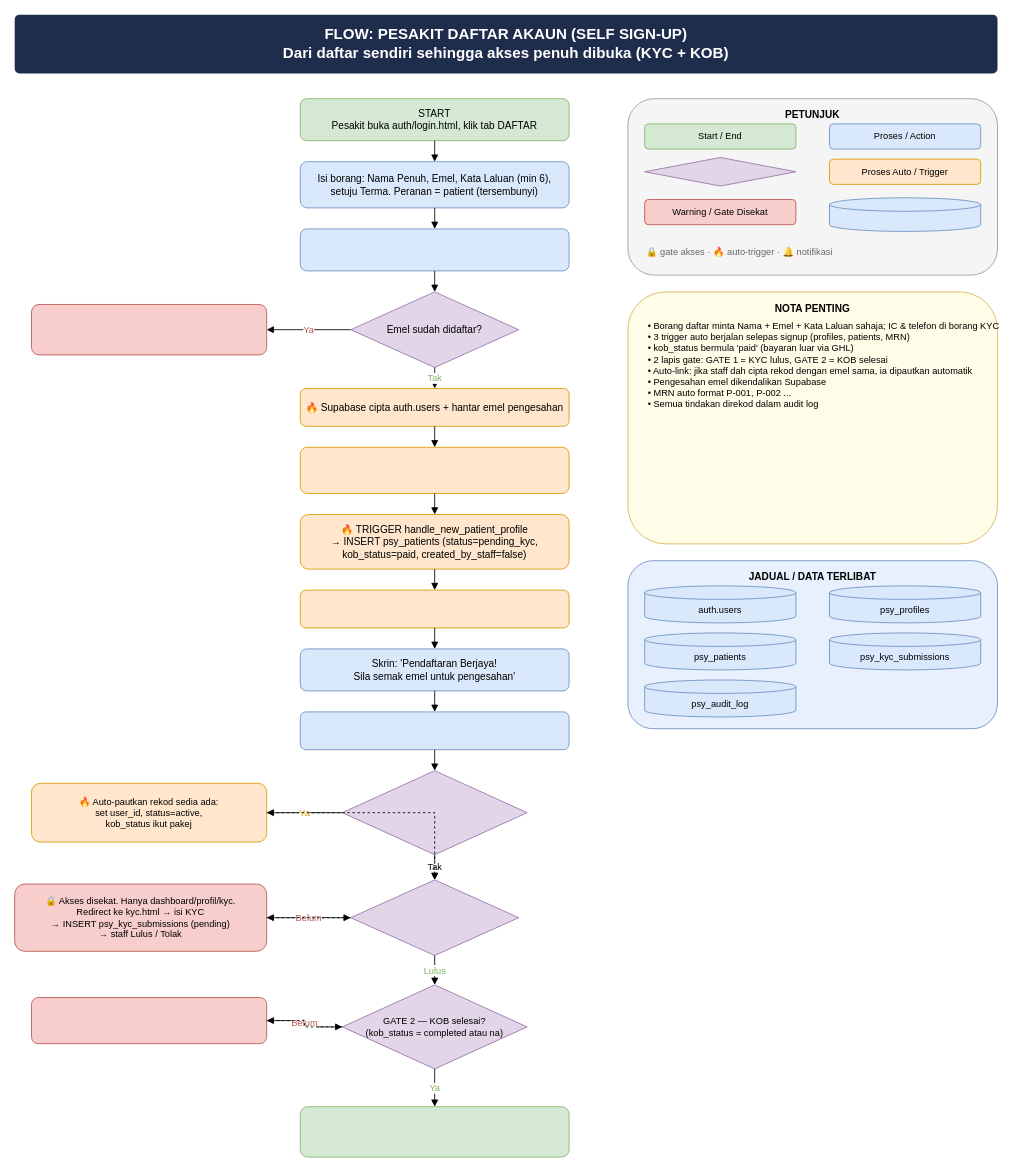
Some shapes in this 1014 by 1172 pixel diagram are drawn without their labels. Each missing label, with the centre of its shape:
"AKSES PENUH dibuka → dashboard pesakit (pakej, pelan, vitals, kepatuhan, kedai)" goes at (x=434, y=1131).
"auth.signUp(emel, kata laluan, metadata: full_name + role=patient)" goes at (x=434, y=249).
"Auto-link? Ada rekod staff (user_id NULL) dengan emel sama?" goes at (x=434, y=812).
"Database" goes at (x=905, y=214).
"GATE 1 — KYC diluluskan?" goes at (x=434, y=917).
"Keputusan / Decision" goes at (x=720, y=171).
"Pesakit klik link emel → akaun disahkan → Log Masuk" goes at (x=434, y=730).
"Ralat: 'Emel sudah didaftar — log masuk / guna emel lain' (berhenti)" goes at (x=149, y=329).
"🔒 Redirect ke kob.html (lengkapkan KOB)" goes at (x=149, y=1020).
"🔥 TRIGGER assign_patient_mrn → auto MRN (P-001 ...)" goes at (x=434, y=608).
"🔥 TRIGGER handle_new_user → INSERT psy_profiles (role=patient, is_active=true)" goes at (x=434, y=470).
